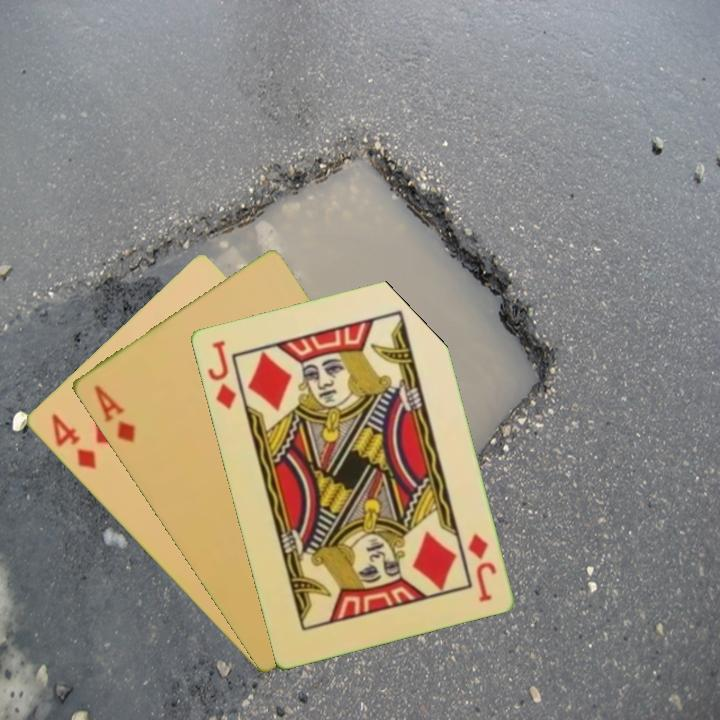4d: (47, 409, 99, 472)
Ad: (89, 381, 138, 446)
Jd: (203, 336, 239, 412), (463, 529, 499, 605)
